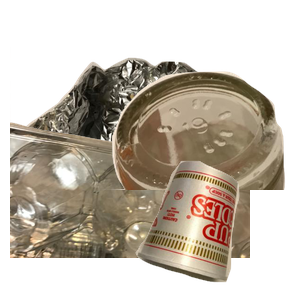glass: (89, 69, 300, 249)
metal: (10, 47, 216, 227)
plastic: (10, 120, 250, 300)
trash: (133, 158, 300, 300)
